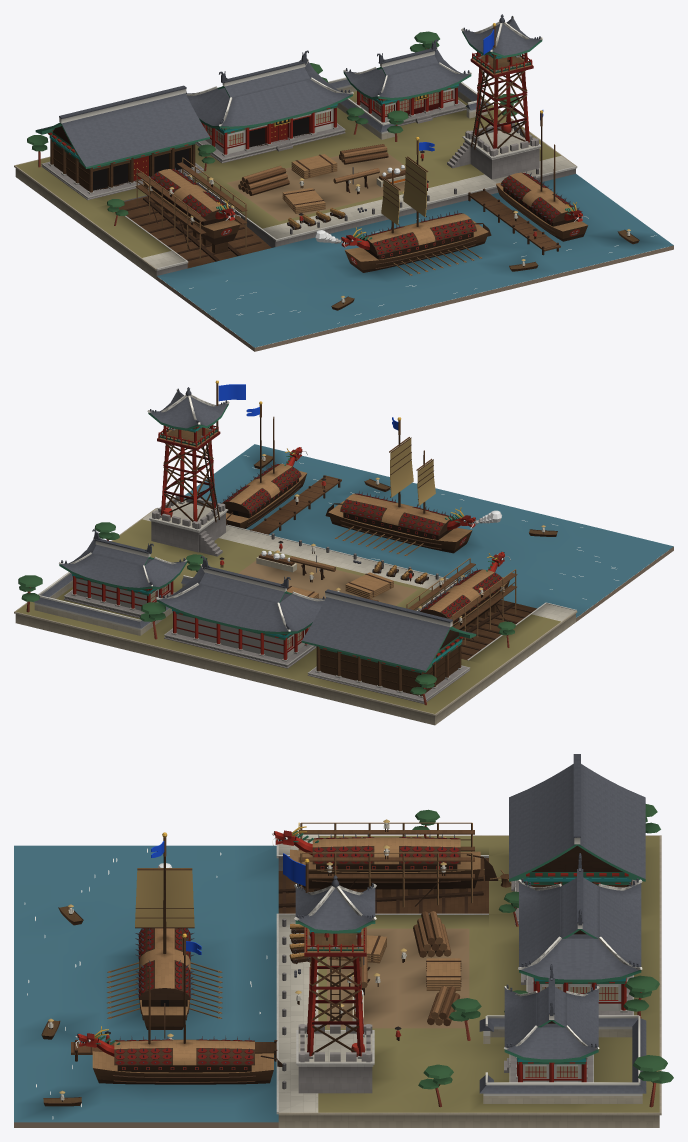
File: lm_kaplumbaga.glb
3 renders of one model, top to bottom at view 1: azimuth 30°, elevation 25°; view 2: azimuth 150°, elevation 25°; view 3: azimuth 270°, elevation 25°, orthographic. The views are drawn at different scales.
Parts seen in each view (by area): view 1: lm_kaplumbaga; view 2: lm_kaplumbaga; view 3: lm_kaplumbaga.
Part boxes in pixels (x1=…): lm_kaplumbaga: x1=14, y1=14, x2=673, y2=351; lm_kaplumbaga: x1=14, y1=380, x2=673, y2=725; lm_kaplumbaga: x1=14, y1=754, x2=673, y2=1127.
Bounding box in the file's own units: 2.32 × 0.87 × 2.32.
1 material, 1 textured.
